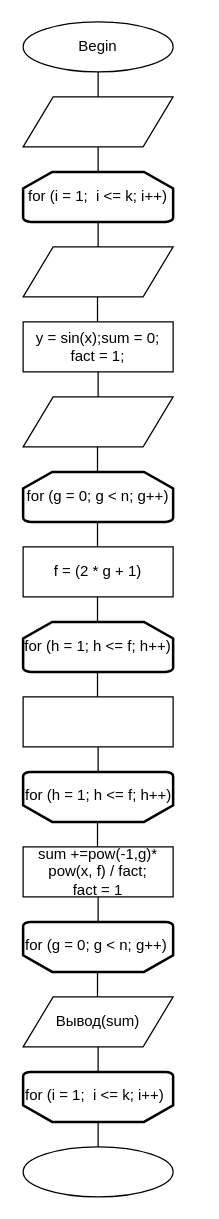
Image size: 219x1219. Some labels were removed from this diagram. Here are the shapes that lost their labels. From the top down, the box of each, then its label:
(22, 96, 173, 147): Ввод(n,k)
(22, 246, 173, 297): Ввод(x)
(22, 396, 173, 447): Вывод(y)
(22, 696, 173, 747): fact *= h;
(22, 1146, 173, 1197): End
